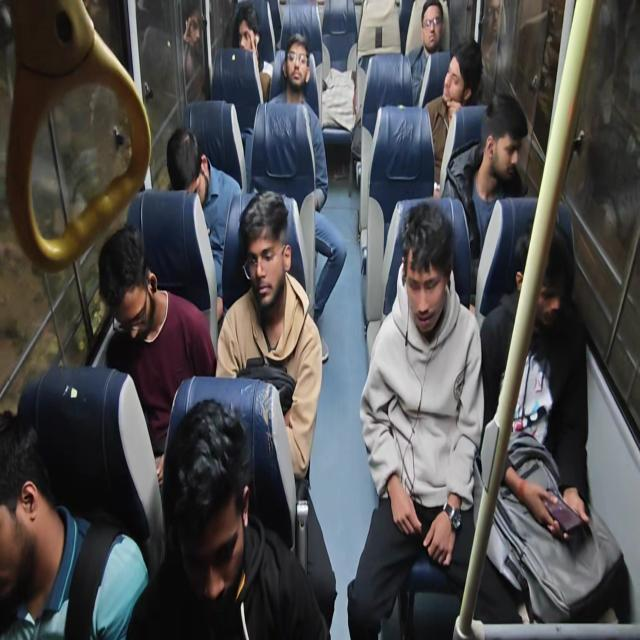person: (162, 394, 254, 604), (0, 405, 51, 589), (92, 225, 156, 368), (394, 198, 452, 337), (511, 217, 578, 335), (239, 190, 298, 322), (482, 89, 524, 181), (164, 130, 208, 206), (446, 33, 484, 109), (284, 27, 314, 98), (232, 0, 261, 59), (421, 1, 448, 54)
